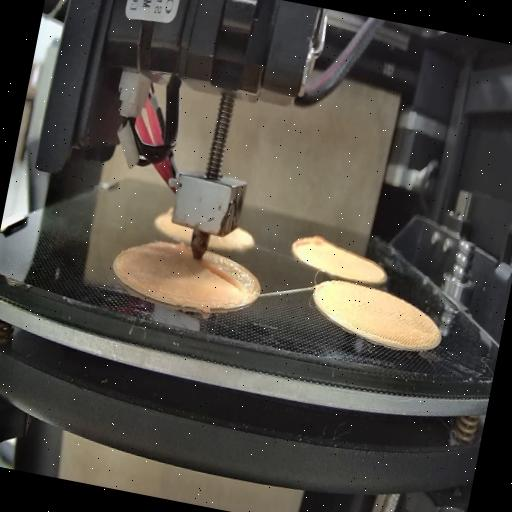over_extrusion: (198, 256, 248, 292), (286, 228, 328, 270)
